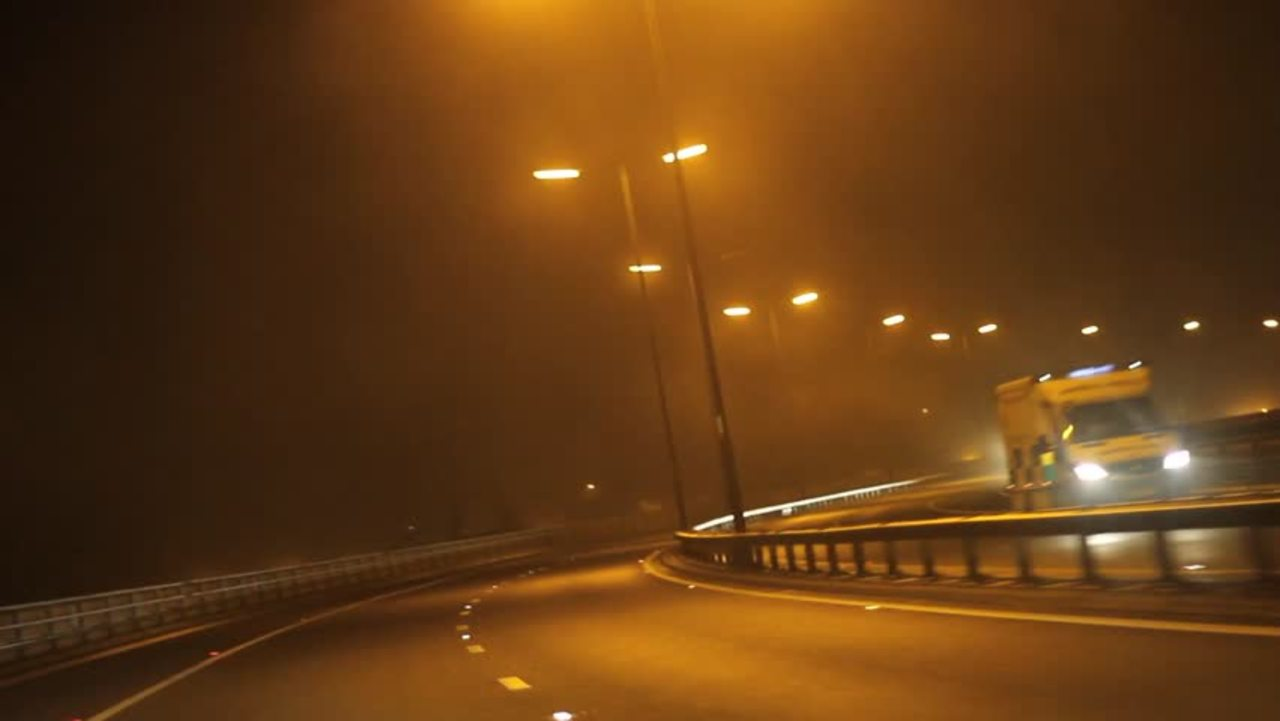car: (993, 364, 1197, 504)
